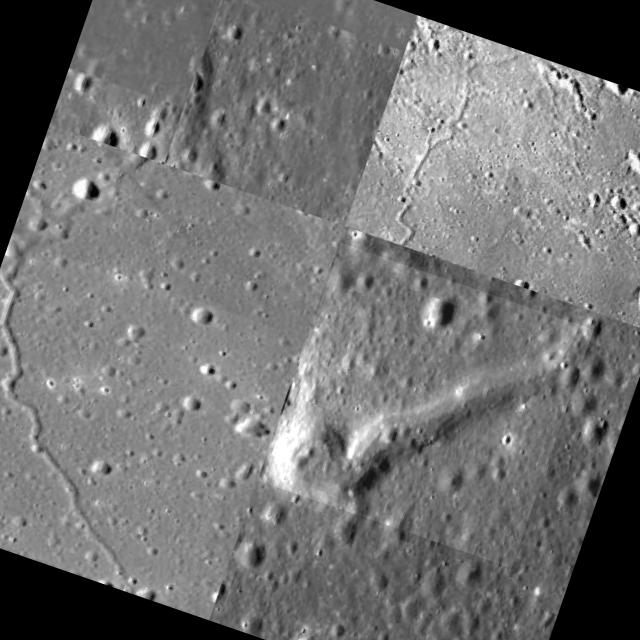rille: (258, 242, 593, 568), (0, 236, 281, 609), (344, 15, 546, 269)
